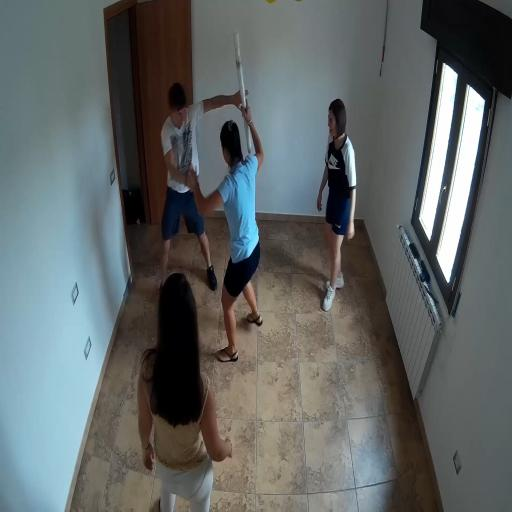violencia: (154, 30, 270, 367)
